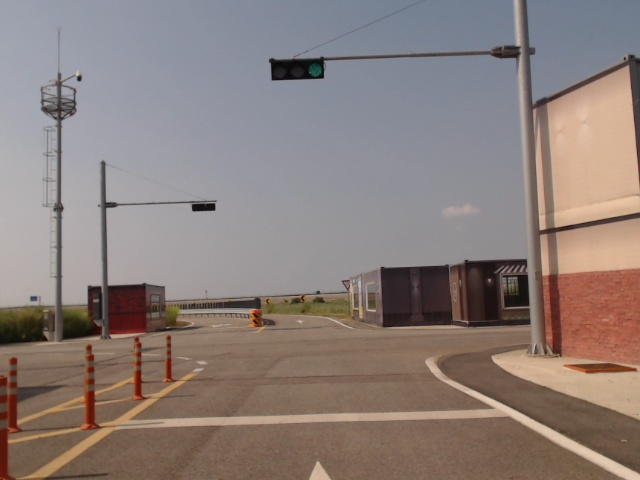green_3: (271, 58, 325, 80)
